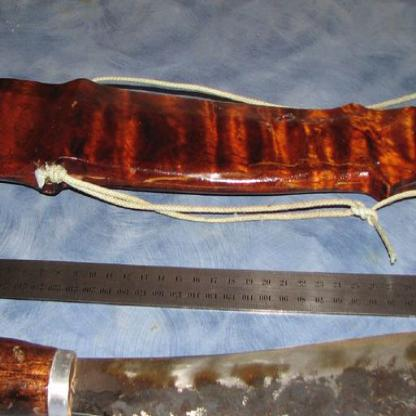knife: (0, 261, 415, 415)
